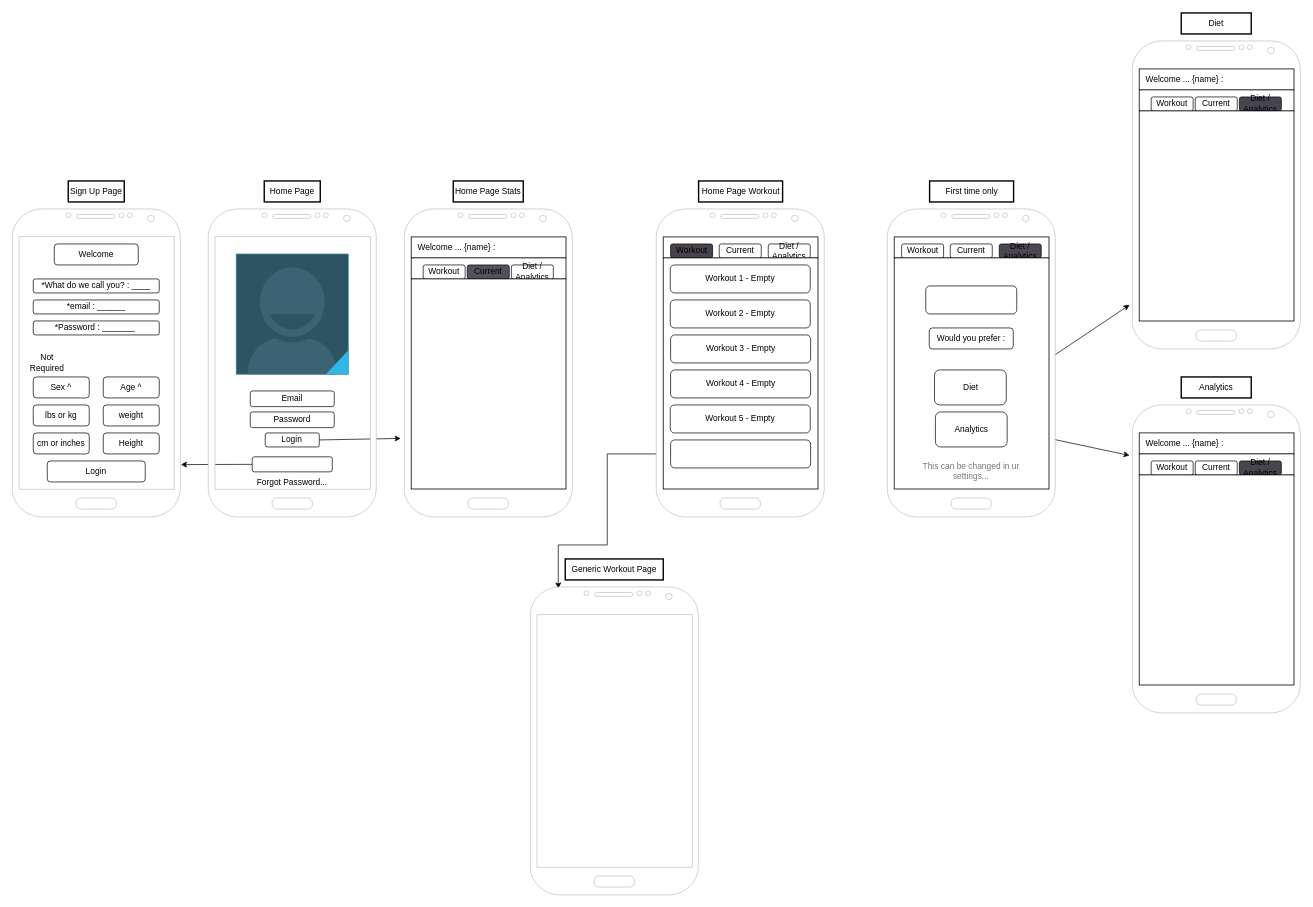
Image size: 1313x907. Some labels were removed from this diagram. The centre of each missing label's shape, as x and y in pixels:
"Sign Up" belongs at [292,464].
"This is a one time message" belongs at [971,299].
"Workout 6 - Empty" belongs at [740,453].
